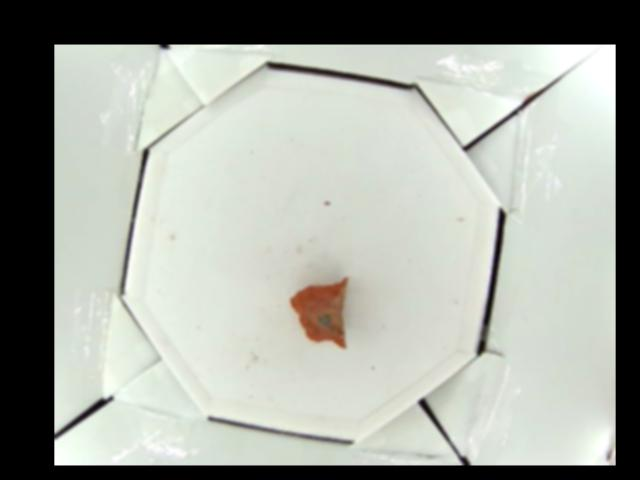Brisk: (290, 274, 349, 348)
